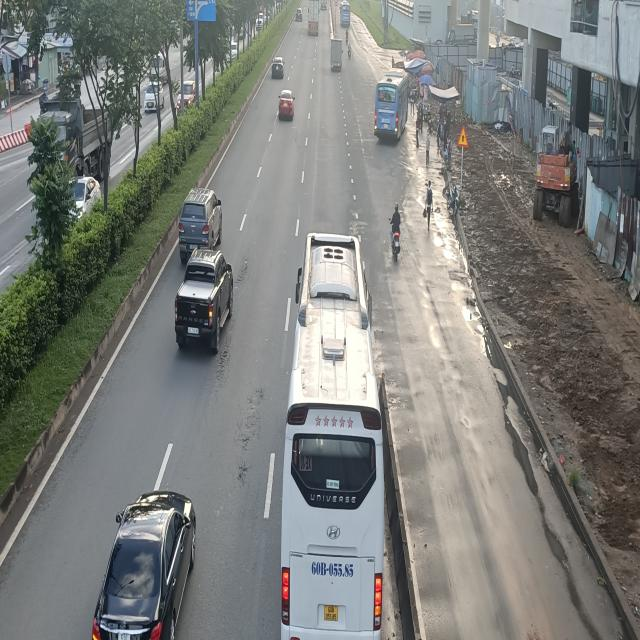car: (93, 491, 198, 640), (177, 249, 237, 353), (178, 188, 226, 261), (278, 90, 296, 122)
coach: (282, 234, 396, 640), (375, 78, 407, 142), (338, 1, 352, 27)
